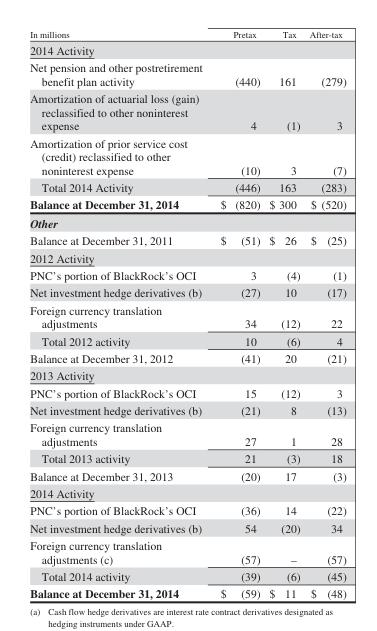table: (29, 28, 345, 599)
table column: (29, 28, 210, 599), (210, 28, 264, 599), (304, 28, 345, 599), (264, 28, 304, 599)
table column header: (29, 28, 345, 41)
table projected row header: (29, 213, 345, 231), (29, 248, 345, 266), (29, 366, 345, 384), (29, 41, 345, 58), (29, 484, 345, 501)
table row: (29, 89, 345, 134), (29, 134, 345, 178), (29, 58, 345, 89), (29, 418, 345, 449), (29, 536, 345, 567), (29, 301, 345, 331), (29, 195, 345, 213), (29, 213, 345, 231), (29, 248, 345, 266), (29, 283, 345, 301), (29, 331, 345, 349), (29, 366, 345, 384), (29, 449, 345, 467), (29, 501, 345, 519), (29, 41, 345, 58), (29, 178, 345, 195), (29, 231, 345, 248), (29, 266, 345, 283), (29, 349, 345, 366), (29, 384, 345, 401), (29, 401, 345, 418), (29, 467, 345, 484), (29, 484, 345, 501), (29, 519, 345, 536), (29, 567, 345, 584), (29, 584, 345, 599), (29, 28, 345, 41)
